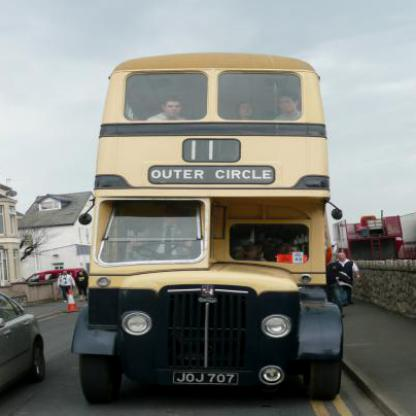car: (0, 295, 52, 395), (22, 269, 88, 280)
